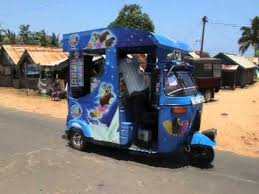tuk tuk: (64, 46, 219, 169)
